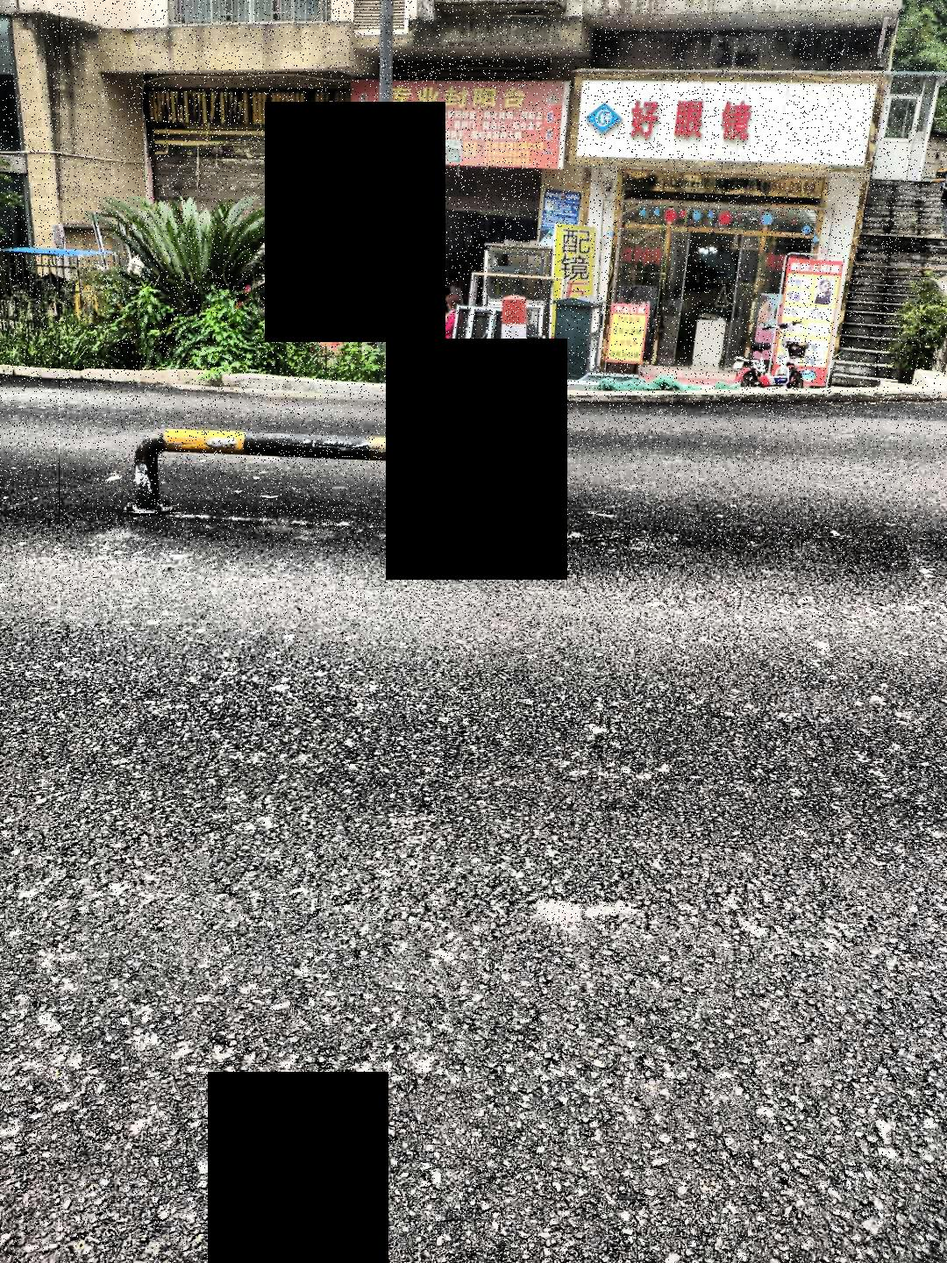bench: (481, 281, 552, 544)
can and bottle trash cans: (116, 416, 478, 559)
